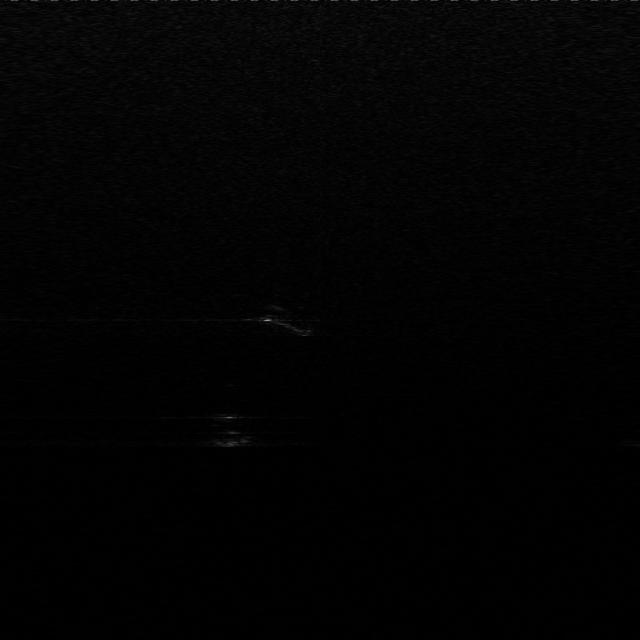ball: (196, 402, 268, 450)
tyre: (254, 298, 327, 340)
